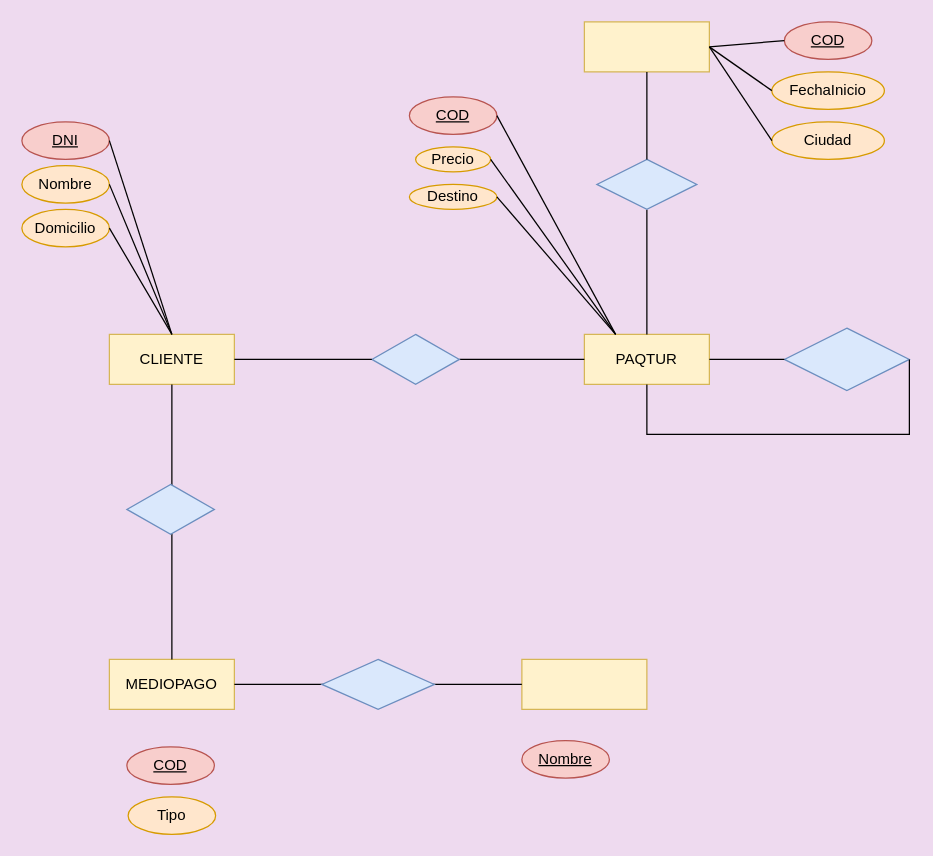
The diagram is 933 pixels wide and 856 high, and some of its shapes have lost their labels. Here are the shapes that lost their labels. From the top down, the centre of each, then its label:
At [646,46]: "AGENCIA".
At [646,183]: "Ofrece".
At [415,358]: "Compra".
At [846,359]: "HaceCombo".
At [170,508]: "Tiene".
At [377,683]: "Autoriza".
At [584,683]: "BANCO".
